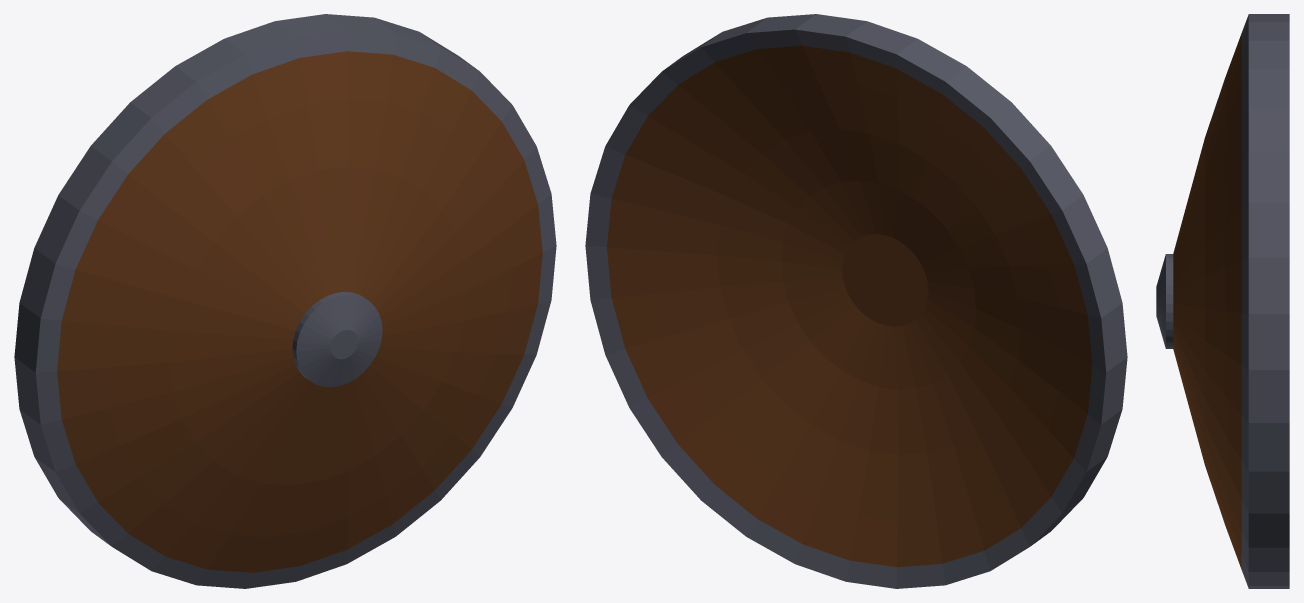
Rendered from shield.fbx.
3 views of the same model, side by side, from view 1: azimuth 30°, elevation 25°; view 2: azimuth 150°, elevation 25°; view 3: azimuth 270°, elevation 25° (orthographic). The views are drawn at different scales.
Visible parts, largest first — view 1: Cylinder; view 2: Cylinder; view 3: Cylinder.
Boxes of the visible parts, left/top/right/bottom form: Cylinder: left=14, top=14, right=556, bottom=588; Cylinder: left=585, top=14, right=1127, bottom=588; Cylinder: left=1156, top=14, right=1289, bottom=588.
Bounding box in the file's own units: 200 × 200 × 46.24.
